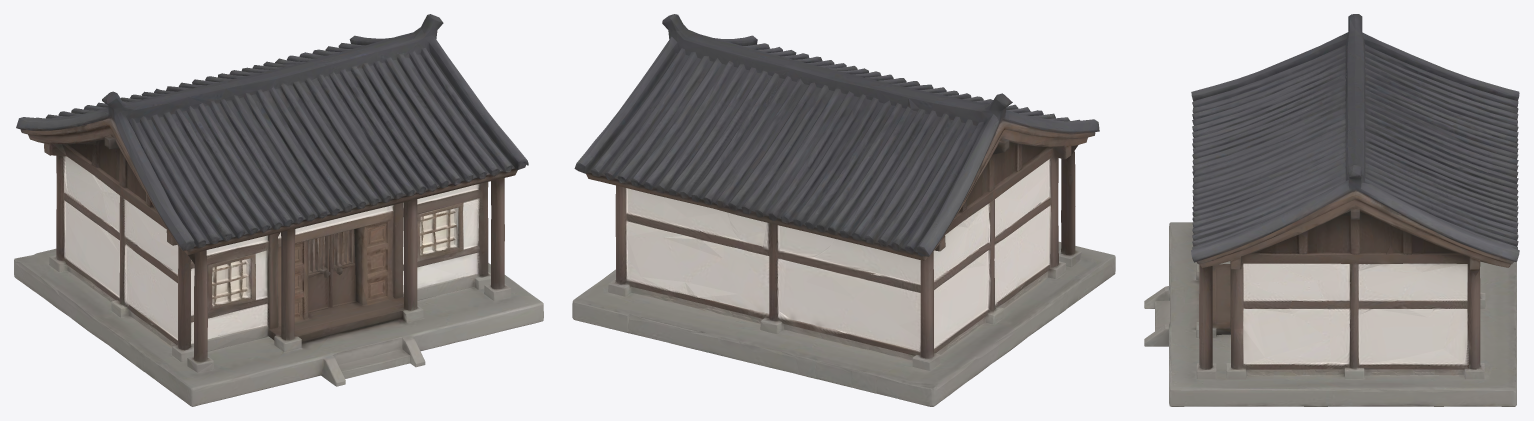
The model's file is nha-ta.glb.
3 views of the same model, side by side, from view 1: azimuth 30°, elevation 25°; view 2: azimuth 150°, elevation 25°; view 3: azimuth 270°, elevation 25° (orthographic). The views are drawn at different scales.
Parts seen in each view (by area): view 1: tripo_node_2483f8e5-7843-454d-95e7-41afc4c975d5; view 2: tripo_node_2483f8e5-7843-454d-95e7-41afc4c975d5; view 3: tripo_node_2483f8e5-7843-454d-95e7-41afc4c975d5.
Boxes of the visible parts, bbox=[...] form: tripo_node_2483f8e5-7843-454d-95e7-41afc4c975d5: bbox=[14, 14, 543, 406]; tripo_node_2483f8e5-7843-454d-95e7-41afc4c975d5: bbox=[572, 14, 1115, 406]; tripo_node_2483f8e5-7843-454d-95e7-41afc4c975d5: bbox=[1144, 14, 1519, 406].
Bounding box in the file's own units: 0.981 × 0.6446 × 0.9274.
Materials: 1 (1 with a texture image).
